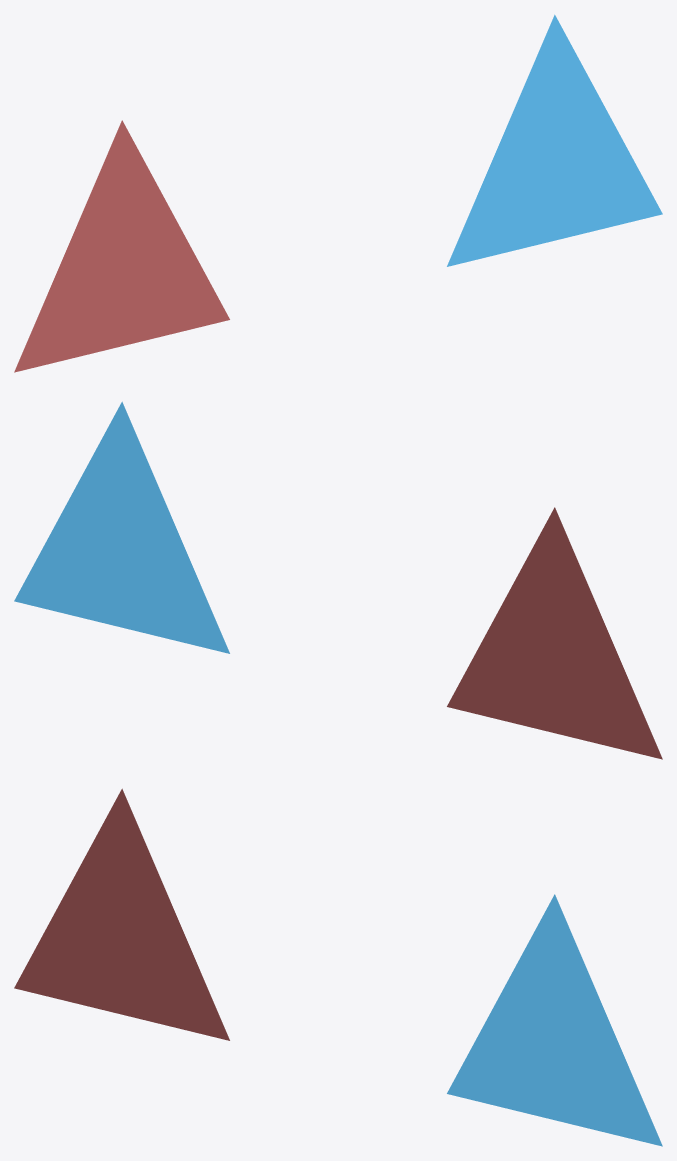
The model's file is 44_edge_cases.gltf.
3 views of the same model, one above another, from view 1: azimuth 30°, elevation 25°; view 2: azimuth 150°, elevation 25°; view 3: azimuth 330°, elevation 25° (orthographic).
Parts seen in each view (by area): view 1: MultiPrimNode; view 2: MultiPrimNode; view 3: MultiPrimNode.
Boxes of the visible parts, x1,y1,x2,y2 form: MultiPrimNode: [14, 14, 662, 372]; MultiPrimNode: [14, 401, 662, 759]; MultiPrimNode: [14, 788, 662, 1146].
Bounding box in the file's own units: 3 × 1 × 0.
